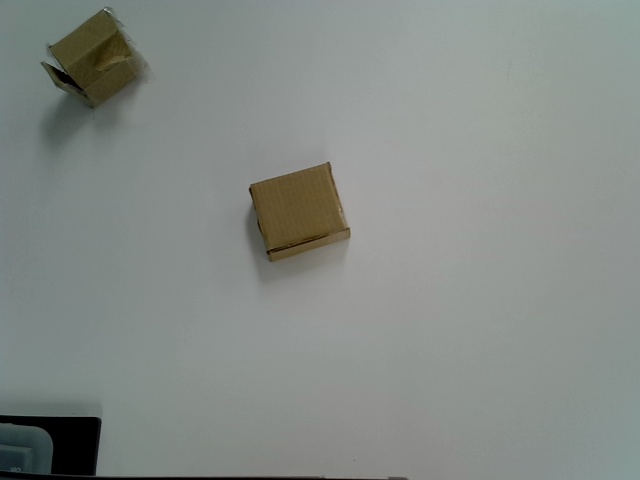defect: (40, 8, 150, 111)
normal: (248, 161, 351, 265)
